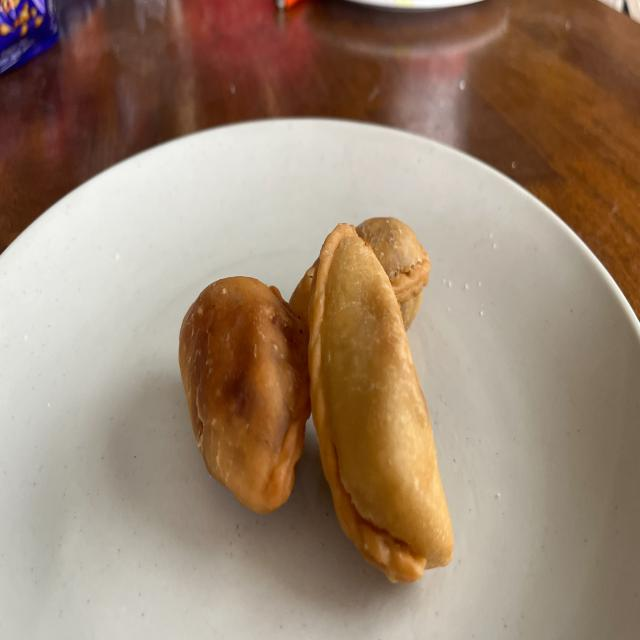karipap: (309, 224, 454, 582), (179, 276, 311, 513), (356, 218, 430, 331), (289, 258, 320, 324)
